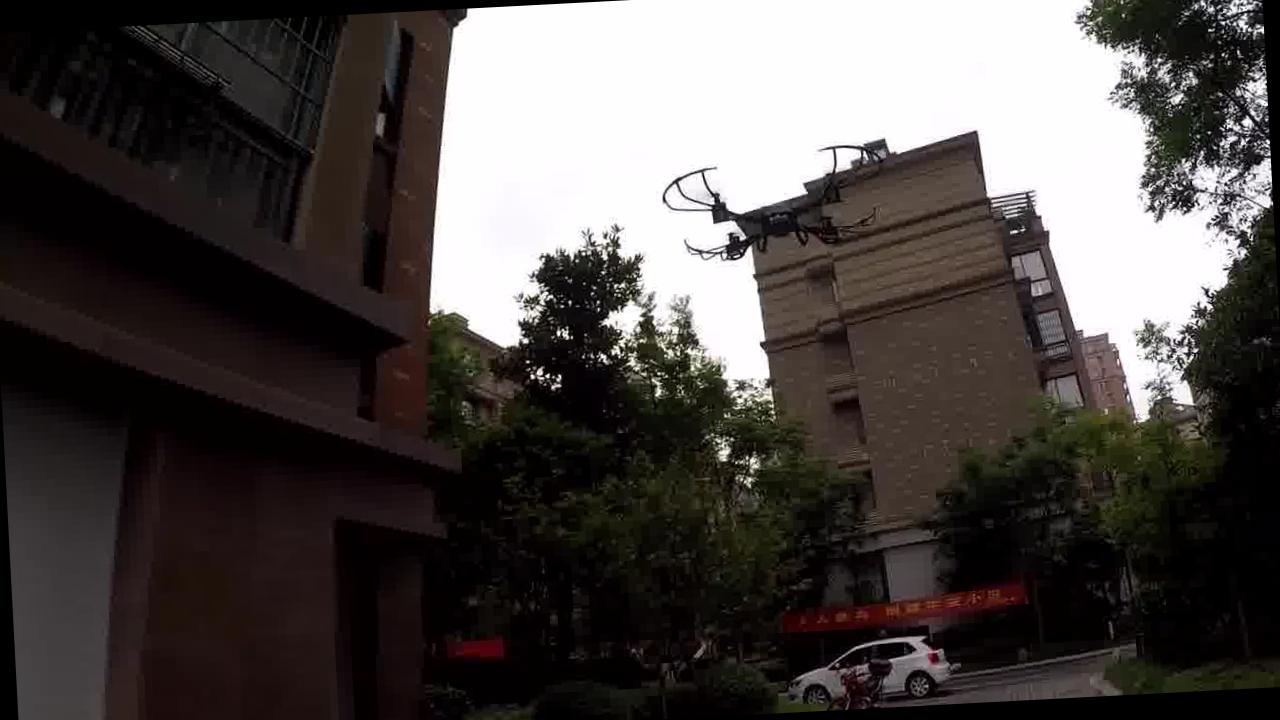drone: (637, 134, 923, 288)
